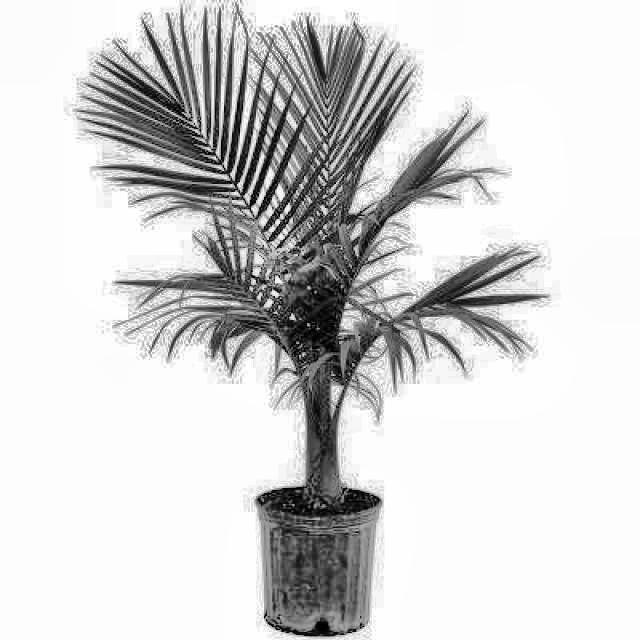plants: (145, 52, 427, 486)
